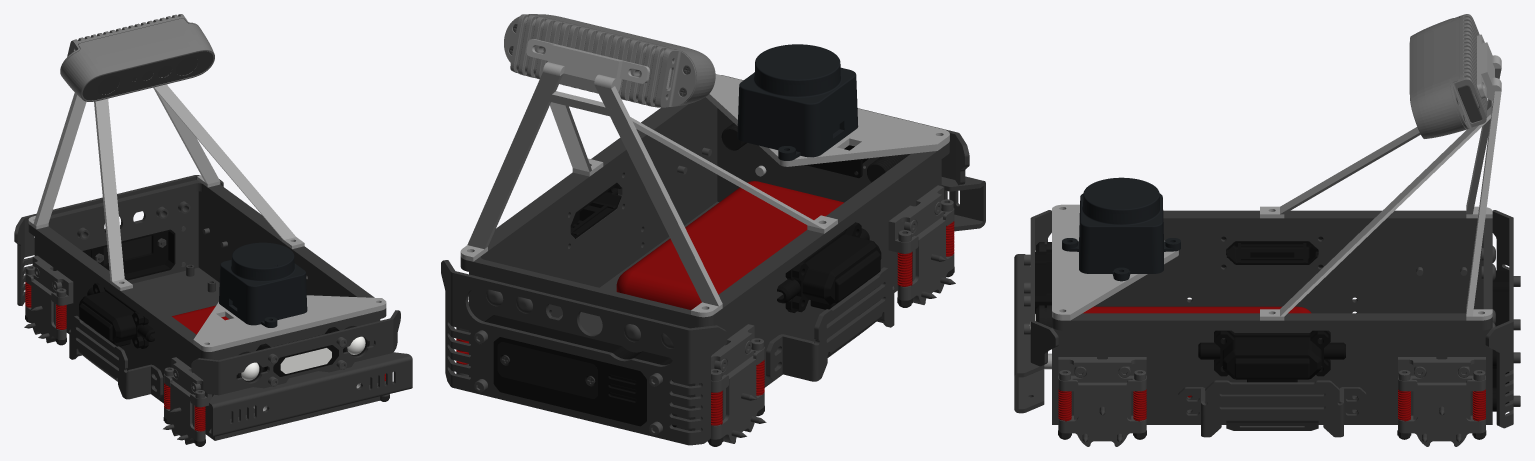
The model's file is cobra_body.dae.
3 views of the same model, side by side, from view 1: azimuth 30°, elevation 25°; view 2: azimuth 150°, elevation 25°; view 3: azimuth 270°, elevation 25° (orthographic). The views are drawn at different scales.
Visible parts, largest first — view 1: node_ab3744a1_50ed_43fa_935b_be711af443ae_mesh5, node_ab3744a1_50ed_43fa_935b_be711af443ae_mesh11, node_ab3744a1_50ed_43fa_935b_be711af443ae_mesh16, node_ab3744a1_50ed_43fa_935b_be711af443ae_mesh2, node_ab3744a1_50ed_43fa_935b_be711af443ae_mesh12, node_ab3744a1_50ed_43fa_935b_be711af443ae_mesh4, node_ab3744a1_50ed_43fa_935b_be711af443ae_mesh6, node_ab3744a1_50ed_43fa_935b_be711af443ae_mesh13, node_ab3744a1_50ed_43fa_935b_be711af443ae_mesh15, node_ab3744a1_50ed_43fa_935b_be711af443ae_mesh10, node_ab3744a1_50ed_43fa_935b_be711af443ae_mesh3, node_ab3744a1_50ed_43fa_935b_be711af443ae_mesh0; view 2: node_ab3744a1_50ed_43fa_935b_be711af443ae_mesh5, node_ab3744a1_50ed_43fa_935b_be711af443ae_mesh11, node_ab3744a1_50ed_43fa_935b_be711af443ae_mesh4, node_ab3744a1_50ed_43fa_935b_be711af443ae_mesh13, node_ab3744a1_50ed_43fa_935b_be711af443ae_mesh16, node_ab3744a1_50ed_43fa_935b_be711af443ae_mesh12, node_ab3744a1_50ed_43fa_935b_be711af443ae_mesh0, node_ab3744a1_50ed_43fa_935b_be711af443ae_mesh3, node_ab3744a1_50ed_43fa_935b_be711af443ae_mesh1, node_ab3744a1_50ed_43fa_935b_be711af443ae_mesh2, node_ab3744a1_50ed_43fa_935b_be711af443ae_mesh15; view 3: node_ab3744a1_50ed_43fa_935b_be711af443ae_mesh5, node_ab3744a1_50ed_43fa_935b_be711af443ae_mesh12, node_ab3744a1_50ed_43fa_935b_be711af443ae_mesh11, node_ab3744a1_50ed_43fa_935b_be711af443ae_mesh4, node_ab3744a1_50ed_43fa_935b_be711af443ae_mesh16, node_ab3744a1_50ed_43fa_935b_be711af443ae_mesh2, node_ab3744a1_50ed_43fa_935b_be711af443ae_mesh13, node_ab3744a1_50ed_43fa_935b_be711af443ae_mesh0, node_ab3744a1_50ed_43fa_935b_be711af443ae_mesh1.
Boxes of the visible parts, box(x1,y1,x2,y2) form: node_ab3744a1_50ed_43fa_935b_be711af443ae_mesh5: box(14, 175, 412, 440); node_ab3744a1_50ed_43fa_935b_be711af443ae_mesh11: box(28, 84, 386, 411); node_ab3744a1_50ed_43fa_935b_be711af443ae_mesh16: box(219, 242, 307, 327); node_ab3744a1_50ed_43fa_935b_be711af443ae_mesh2: box(61, 18, 214, 101); node_ab3744a1_50ed_43fa_935b_be711af443ae_mesh12: box(25, 226, 389, 446); node_ab3744a1_50ed_43fa_935b_be711af443ae_mesh4: box(79, 229, 339, 376); node_ab3744a1_50ed_43fa_935b_be711af443ae_mesh6: box(82, 51, 213, 100); node_ab3744a1_50ed_43fa_935b_be711af443ae_mesh13: box(25, 282, 385, 431); node_ab3744a1_50ed_43fa_935b_be711af443ae_mesh15: box(77, 57, 197, 262); node_ab3744a1_50ed_43fa_935b_be711af443ae_mesh10: box(241, 336, 365, 380); node_ab3744a1_50ed_43fa_935b_be711af443ae_mesh3: box(103, 236, 369, 382); node_ab3744a1_50ed_43fa_935b_be711af443ae_mesh0: box(60, 14, 198, 75); node_ab3744a1_50ed_43fa_935b_be711af443ae_mesh5: box(441, 75, 985, 445); node_ab3744a1_50ed_43fa_935b_be711af443ae_mesh11: box(460, 39, 949, 317); node_ab3744a1_50ed_43fa_935b_be711af443ae_mesh4: box(485, 145, 881, 427); node_ab3744a1_50ed_43fa_935b_be711af443ae_mesh13: box(456, 181, 954, 425); node_ab3744a1_50ed_43fa_935b_be711af443ae_mesh16: box(737, 44, 858, 160); node_ab3744a1_50ed_43fa_935b_be711af443ae_mesh12: box(456, 147, 954, 446); node_ab3744a1_50ed_43fa_935b_be711af443ae_mesh0: box(504, 14, 696, 107); node_ab3744a1_50ed_43fa_935b_be711af443ae_mesh3: box(497, 123, 907, 398); node_ab3744a1_50ed_43fa_935b_be711af443ae_mesh1: box(514, 15, 683, 106); node_ab3744a1_50ed_43fa_935b_be711af443ae_mesh2: box(529, 14, 715, 106); node_ab3744a1_50ed_43fa_935b_be711af443ae_mesh15: box(486, 24, 690, 348); node_ab3744a1_50ed_43fa_935b_be711af443ae_mesh5: box(1014, 210, 1513, 442); node_ab3744a1_50ed_43fa_935b_be711af443ae_mesh12: box(1024, 254, 1520, 446); node_ab3744a1_50ed_43fa_935b_be711af443ae_mesh11: box(1044, 34, 1501, 369); node_ab3744a1_50ed_43fa_935b_be711af443ae_mesh4: box(1035, 236, 1509, 411); node_ab3744a1_50ed_43fa_935b_be711af443ae_mesh16: box(1062, 177, 1180, 281); node_ab3744a1_50ed_43fa_935b_be711af443ae_mesh2: box(1409, 17, 1466, 138); node_ab3744a1_50ed_43fa_935b_be711af443ae_mesh13: box(1058, 306, 1485, 421); node_ab3744a1_50ed_43fa_935b_be711af443ae_mesh0: box(1451, 14, 1486, 129); node_ab3744a1_50ed_43fa_935b_be711af443ae_mesh1: box(1457, 16, 1486, 122).
Bounding box in the file's own units: 145 × 230 × 172.
